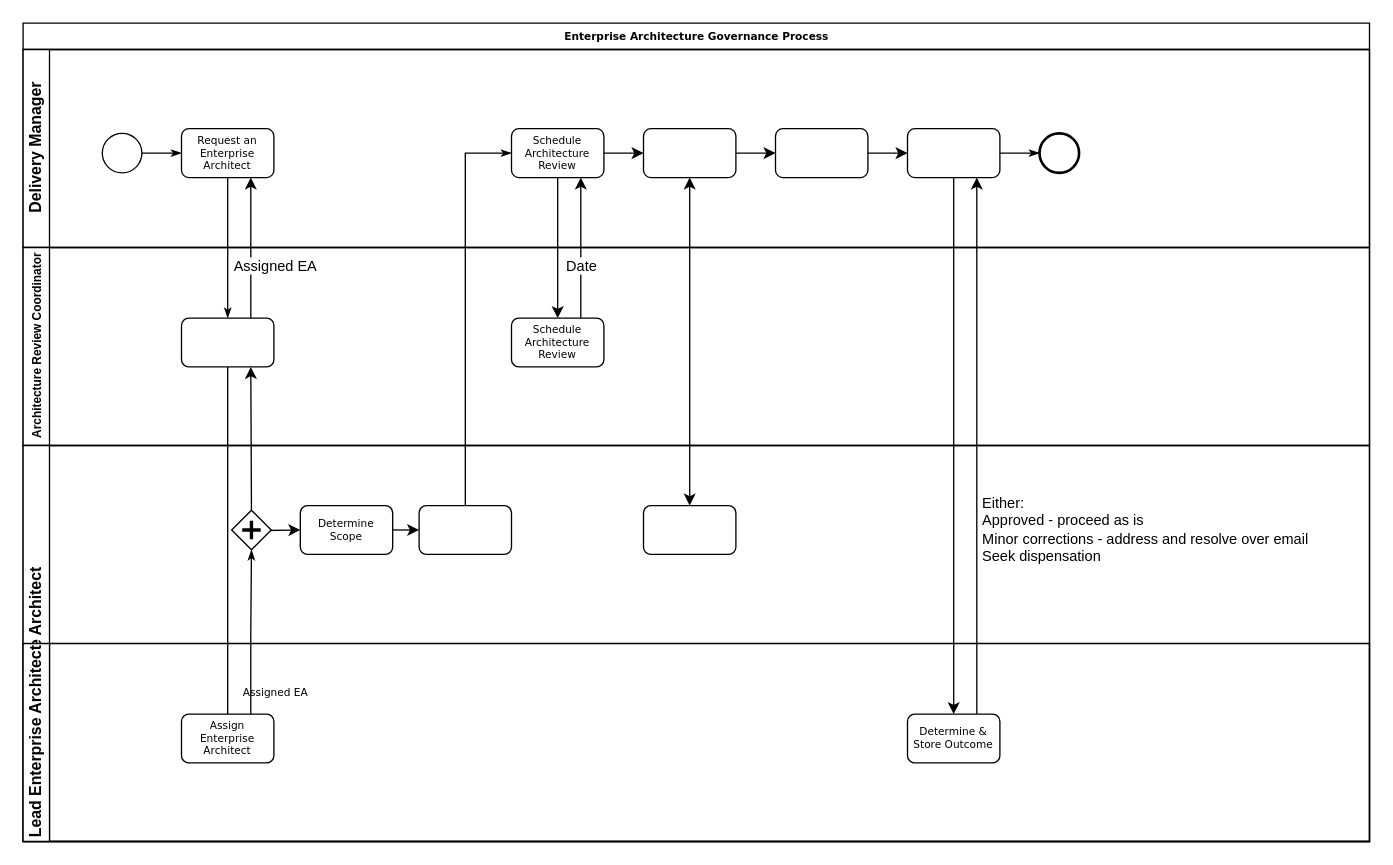
This 1393x865 diagram has some shape labels left out. The centre of each missing label's shape, as x and y in pixels:
"Prepare Architecture Compliance Review Report" goes at point 821,152.
"Present Architecture Compliance Review Report" goes at point 953,152.
"Provide support" goes at point 689,529.
"Seek support as needed" goes at point 689,152.
"Tailor Criteria" goes at point 465,529.
"Work with Lead E. A." goes at point 227,342.
